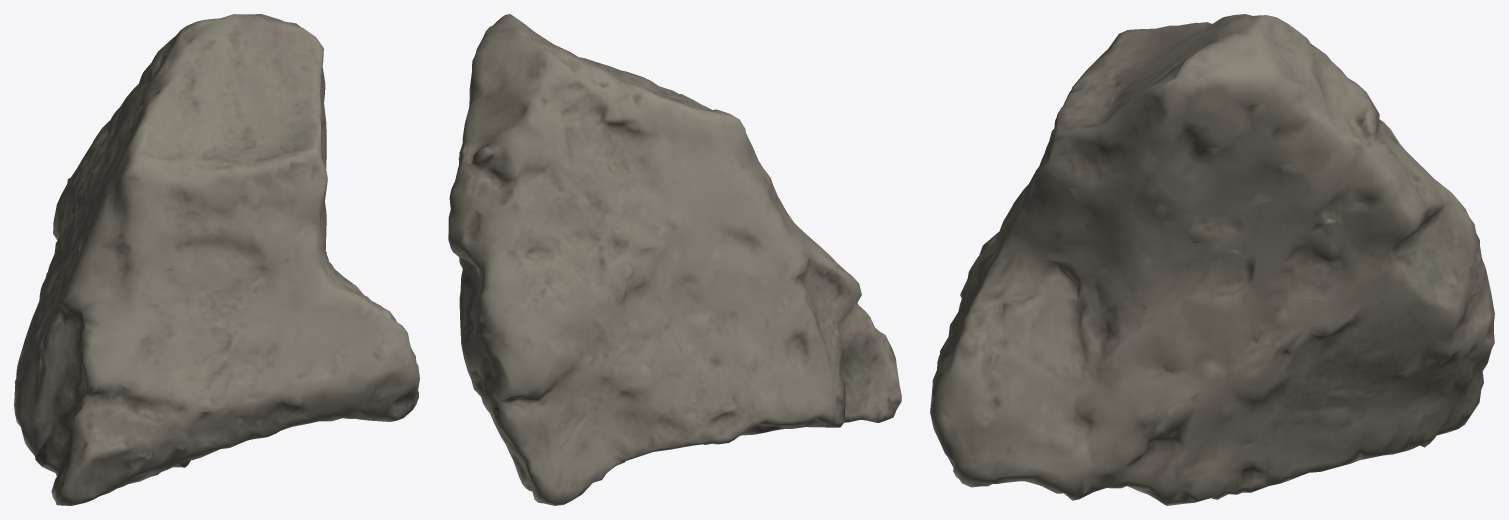
The model's file is moon_rock_05.glb.
3 renders of one model, left to right at view 1: azimuth 30°, elevation 25°; view 2: azimuth 150°, elevation 25°; view 3: azimuth 270°, elevation 25°, orthographic. The views are drawn at different scales.
Parts seen in each view (by area): view 1: lod0; view 2: lod0; view 3: lod0.
Part boxes in pixels (<box>): lod0: <box>14,14,419,505</box>; lod0: <box>448,14,901,505</box>; lod0: <box>930,14,1494,505</box>.
Size of what is drawn, in the model's own units: 1.75 by 1.79 by 1.98.
Materials: 1 (1 with a texture image).
